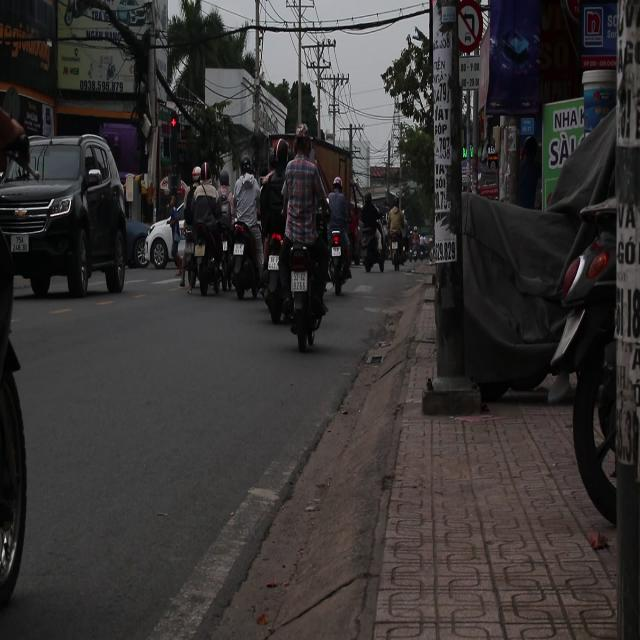car: (1, 134, 131, 298), (146, 200, 184, 270), (125, 215, 151, 266)
motorbike: (279, 224, 332, 352), (190, 226, 216, 302), (328, 224, 354, 295)
